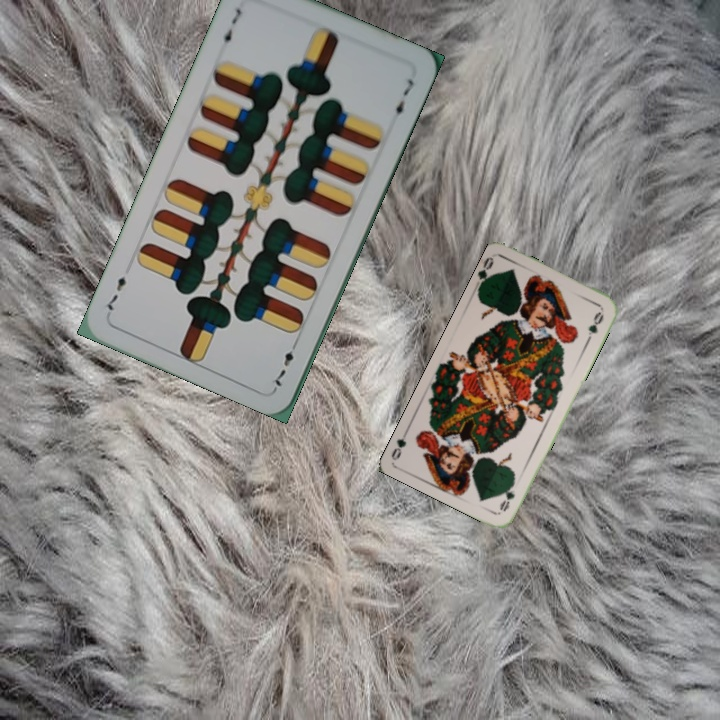E7: (270, 335, 301, 391), (216, 4, 244, 51)
GO: (471, 253, 498, 291), (496, 475, 518, 514)
